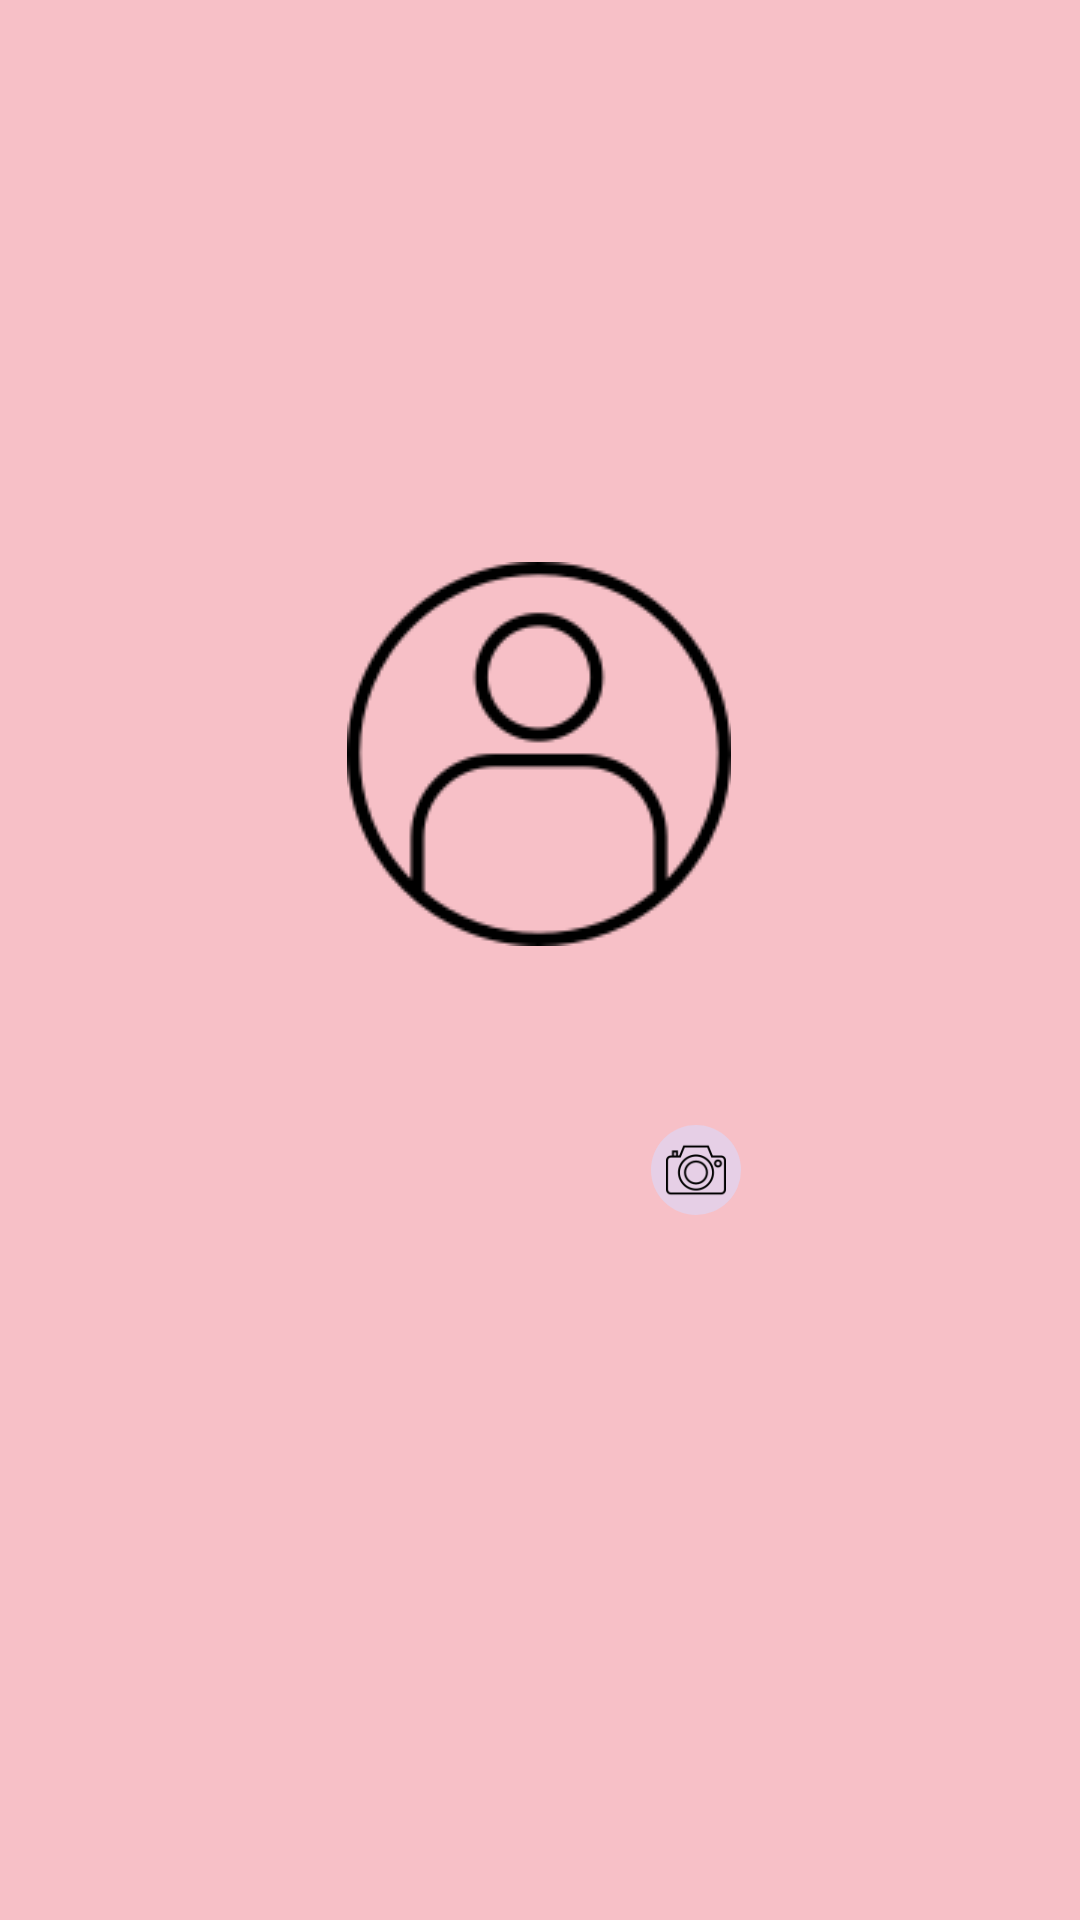

Locate icon controls on the screen. Image size 1080*1920, boxes as (x1, y1, x2, y2).
camera: (651, 1125, 741, 1215)
